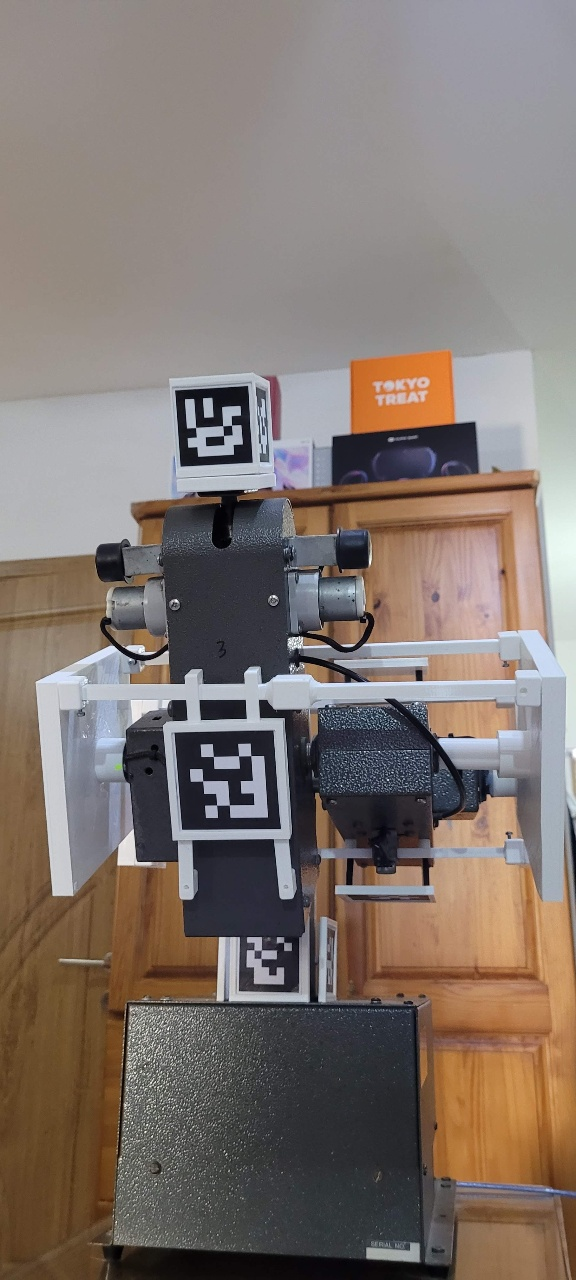Robot: (91, 268, 576, 1201)
